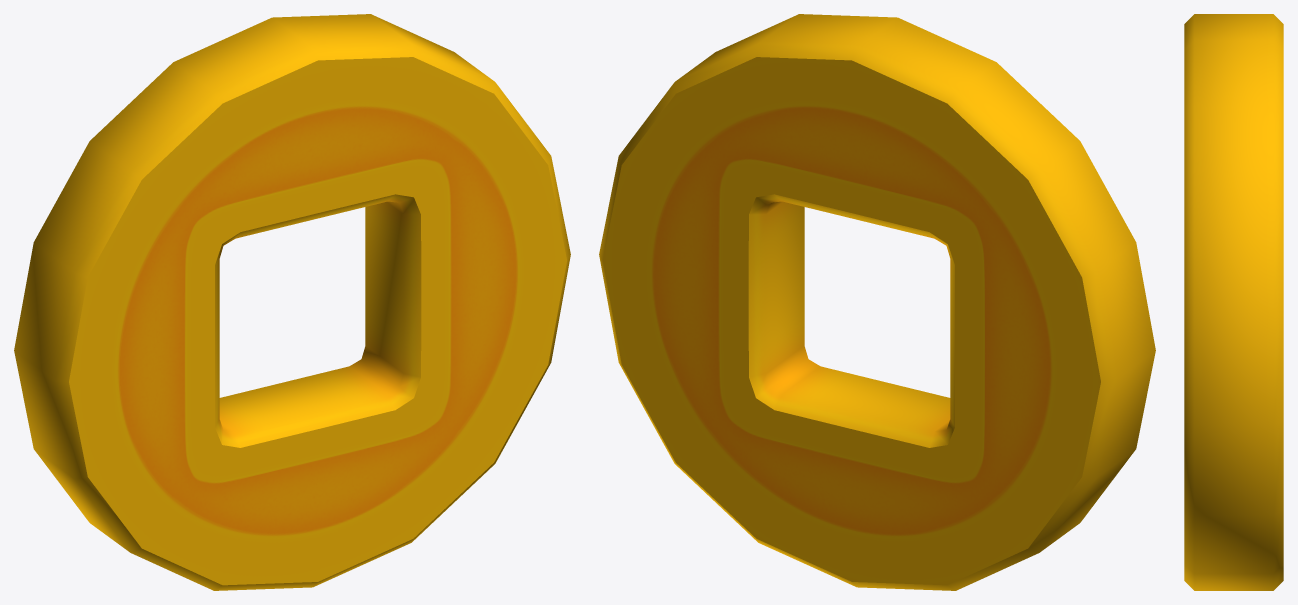
File: Coin_Chinese_Gold.FBX
The picture shows the model from 3 angles, left to right: view 1: azimuth 30°, elevation 25°; view 2: azimuth 150°, elevation 25°; view 3: azimuth 270°, elevation 25°; orthographic projection. The views are drawn at different scales.
Parts seen in each view (by area): view 1: Coin_Chinese_Gold; view 2: Coin_Chinese_Gold; view 3: Coin_Chinese_Gold.
Part boxes in pixels (x1,y1,x2,y2): Coin_Chinese_Gold: (14,14,570,590); Coin_Chinese_Gold: (599,14,1155,590); Coin_Chinese_Gold: (1184,14,1283,590).
Bounding box in the file's own units: 63 × 63 × 10.8.
1 material, 1 textured.
